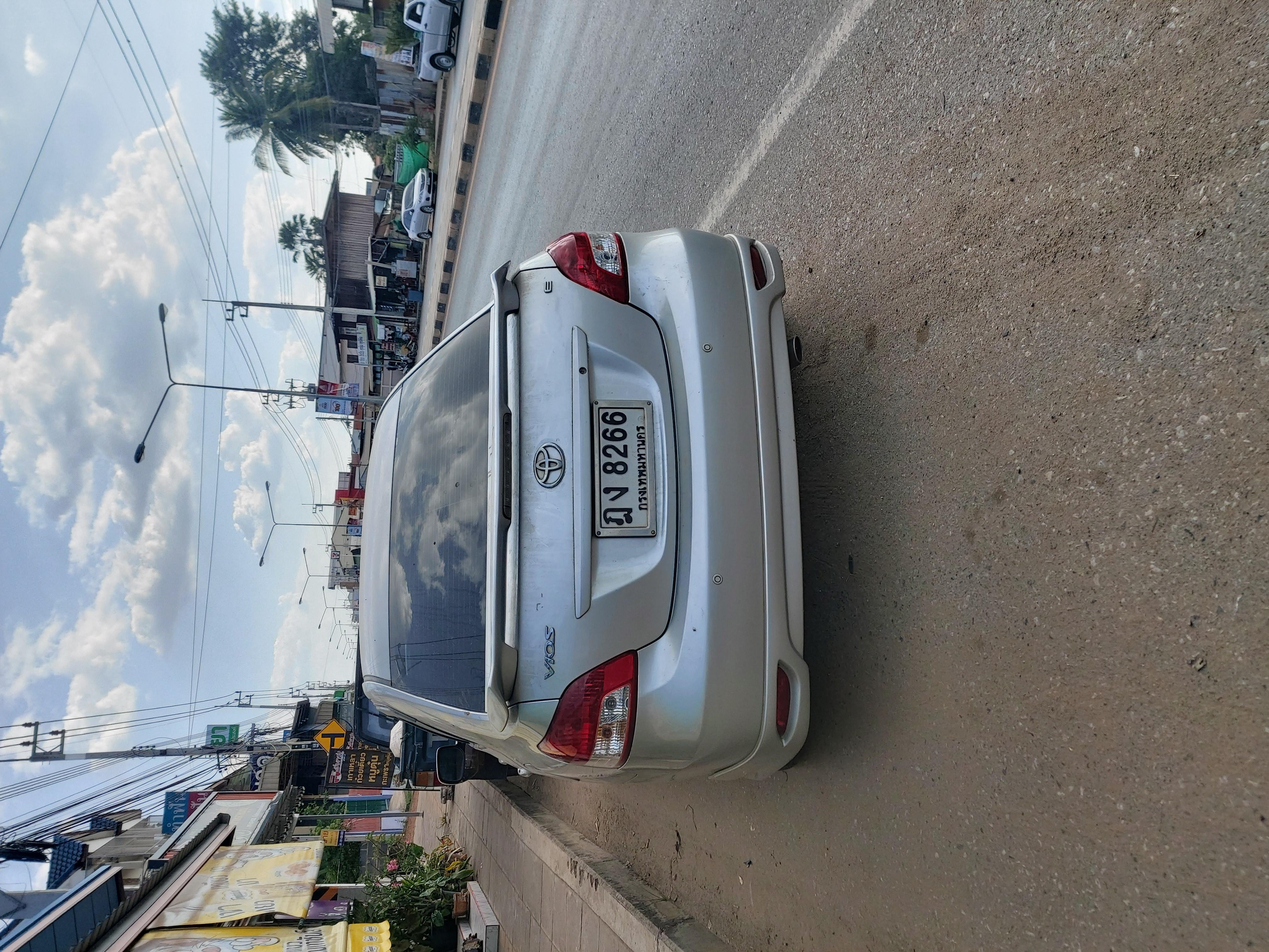license-plate: (564, 446, 726, 488)
